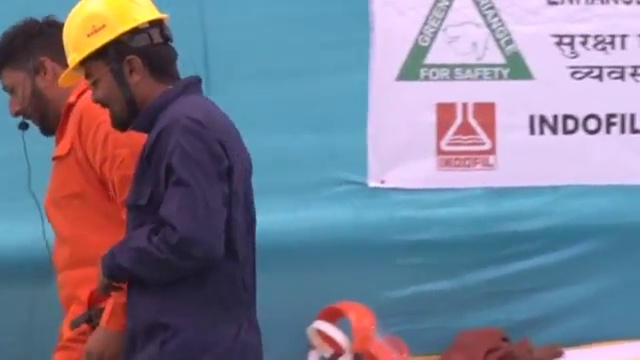helmet: (55, 1, 169, 88)
helmet_off: (1, 17, 71, 138)
helmet_on: (55, 1, 180, 134)
person: (52, 2, 266, 360), (1, 14, 138, 360)
